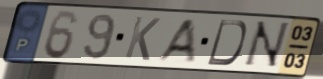6: (41, 8, 82, 61)
9: (80, 12, 118, 61)
A: (152, 18, 197, 64)
D: (204, 18, 249, 68)
K: (122, 14, 163, 63)
N: (239, 20, 293, 70)
